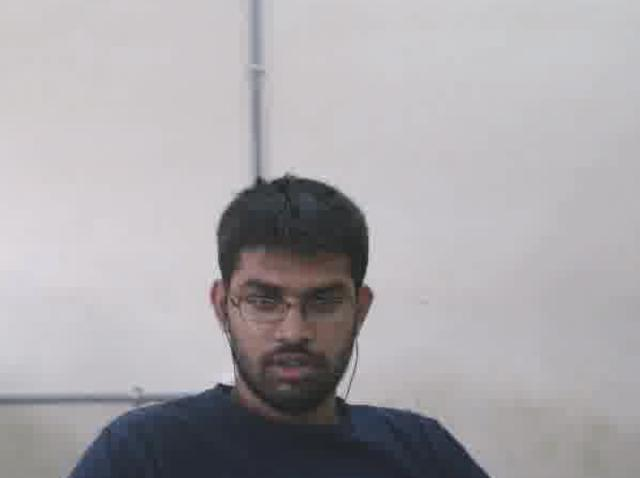bosan: (232, 246, 361, 400)
